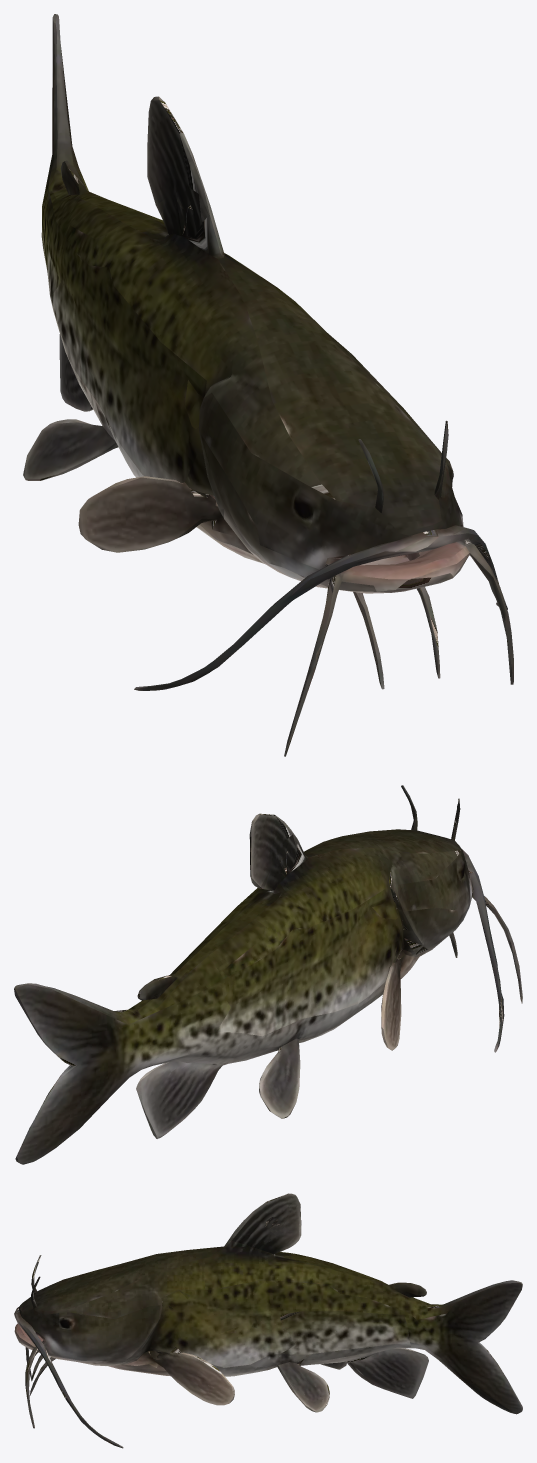
Rendered from channel_catfish.glb.
3 views of the same model, one above another, from view 1: azimuth 30°, elevation 25°; view 2: azimuth 150°, elevation 25°; view 3: azimuth 270°, elevation 25° (orthographic). The views are drawn at different scales.
Parts seen in each view (by area): view 1: world; view 2: world; view 3: world.
Part boxes in pixels (<box>): world: <box>23,14,513,756</box>; world: <box>14,785,522,1164</box>; world: <box>14,1193,522,1448</box>.
Size of the model in its own units: 0.412 by 0.475 by 1.
1 material, 1 textured.
